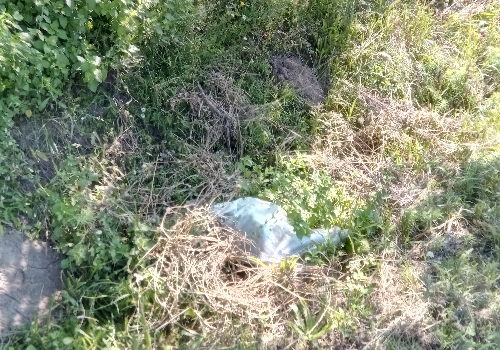trash: (168, 182, 351, 280)
